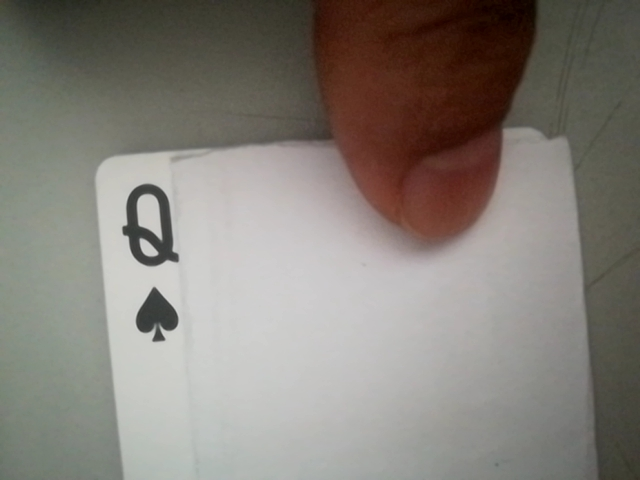ht q: (106, 166, 197, 346)
